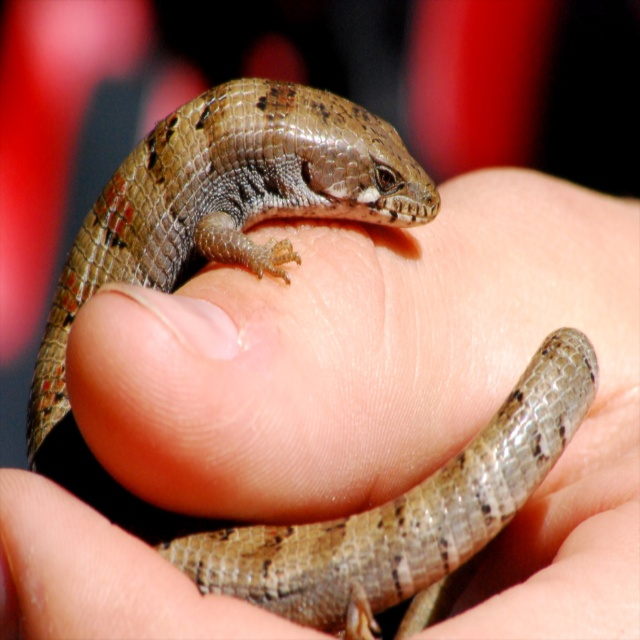Lizard: (26, 78, 599, 640)
